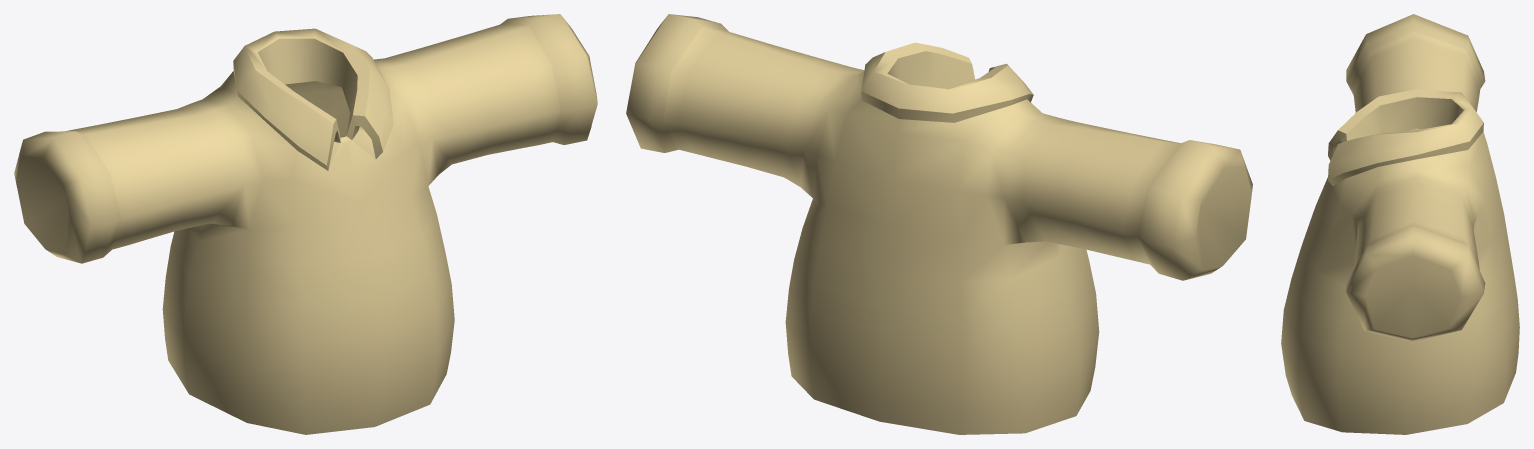
The model's file is Top_37.fbx.
The picture shows the model from 3 angles, left to right: view 1: azimuth 30°, elevation 25°; view 2: azimuth 150°, elevation 25°; view 3: azimuth 270°, elevation 25°; orthographic projection. The views are drawn at different scales.
Visible parts, largest first — view 1: Top_37; view 2: Top_37; view 3: Top_37.
Boxes of the visible parts, box(x1,y1,x2,y2) form: Top_37: box(14, 14, 597, 434); Top_37: box(626, 14, 1252, 434); Top_37: box(1281, 14, 1519, 434).
Size of the model in its own units: 86.81 by 50.54 by 37.84.
